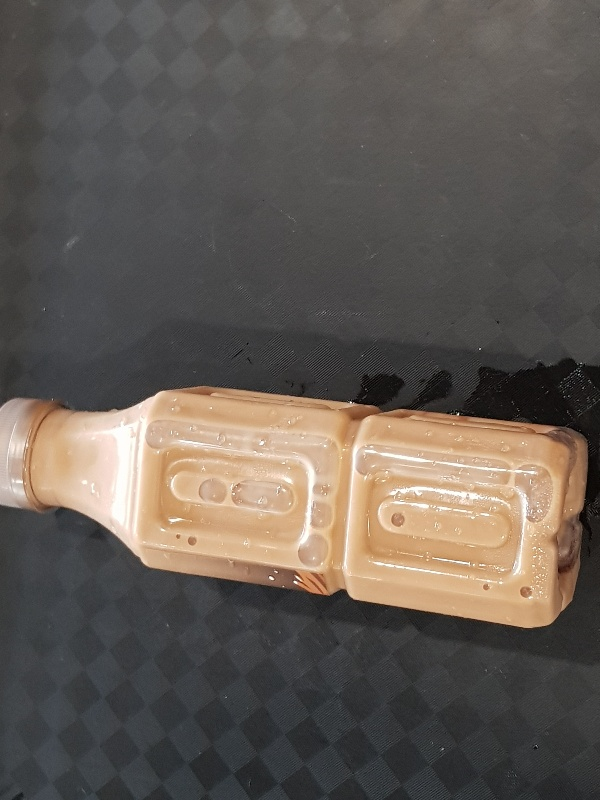Mocha: (1, 383, 600, 631)
